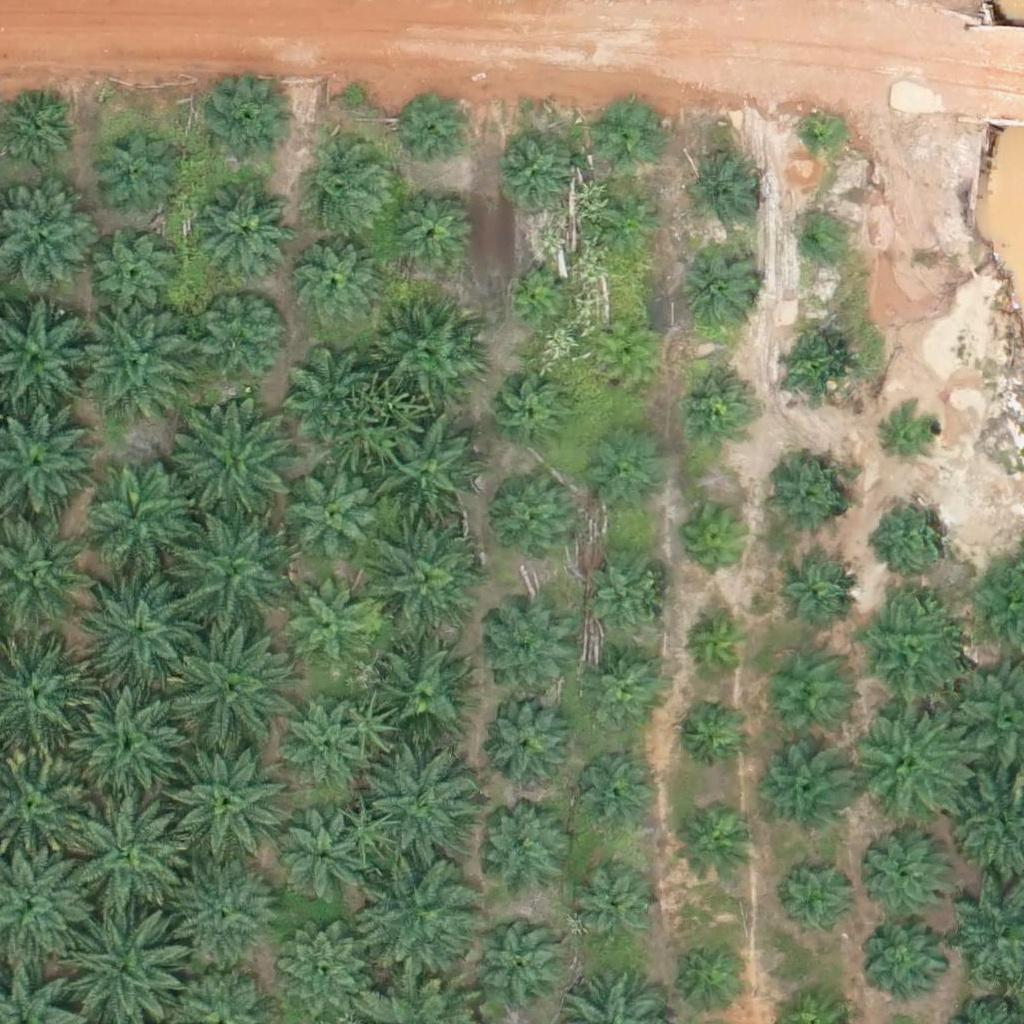Kelapa_Sawit: (847, 696, 972, 822), (177, 512, 302, 638), (169, 624, 294, 750), (168, 738, 293, 864), (60, 782, 185, 908), (61, 677, 186, 803), (77, 565, 202, 691), (78, 292, 203, 418), (173, 407, 298, 532), (372, 528, 485, 641), (357, 862, 470, 975), (169, 866, 282, 979), (364, 747, 476, 861), (854, 596, 966, 709), (861, 821, 961, 922), (381, 427, 481, 528), (372, 639, 472, 740), (753, 652, 853, 752), (375, 304, 475, 404), (268, 918, 368, 1018), (90, 466, 190, 566), (297, 140, 397, 240), (192, 173, 292, 273), (767, 457, 855, 545), (859, 915, 947, 1003), (579, 650, 667, 738), (576, 867, 664, 955), (485, 607, 573, 695), (482, 696, 570, 784), (479, 924, 567, 1012), (282, 819, 370, 907), (292, 474, 380, 562), (198, 290, 286, 378), (206, 74, 294, 162), (87, 230, 175, 318), (491, 476, 578, 565), (295, 240, 382, 329), (771, 554, 858, 642), (762, 742, 849, 830), (578, 558, 665, 646), (570, 752, 657, 840), (476, 807, 563, 895), (279, 695, 366, 783), (284, 580, 371, 668), (283, 347, 370, 435), (494, 129, 581, 217), (389, 186, 476, 274), (86, 130, 173, 218), (684, 151, 759, 227), (394, 96, 469, 172), (775, 332, 850, 408), (678, 807, 753, 883), (673, 696, 748, 772), (679, 608, 754, 684), (877, 495, 952, 571), (684, 248, 759, 324), (492, 375, 567, 450), (589, 439, 664, 514), (676, 366, 751, 441), (682, 499, 757, 574), (675, 943, 750, 1018), (784, 863, 859, 938), (597, 101, 660, 164), (593, 323, 656, 386), (603, 197, 665, 260), (882, 404, 944, 467), (502, 263, 564, 325), (794, 112, 844, 162), (790, 219, 840, 269)
